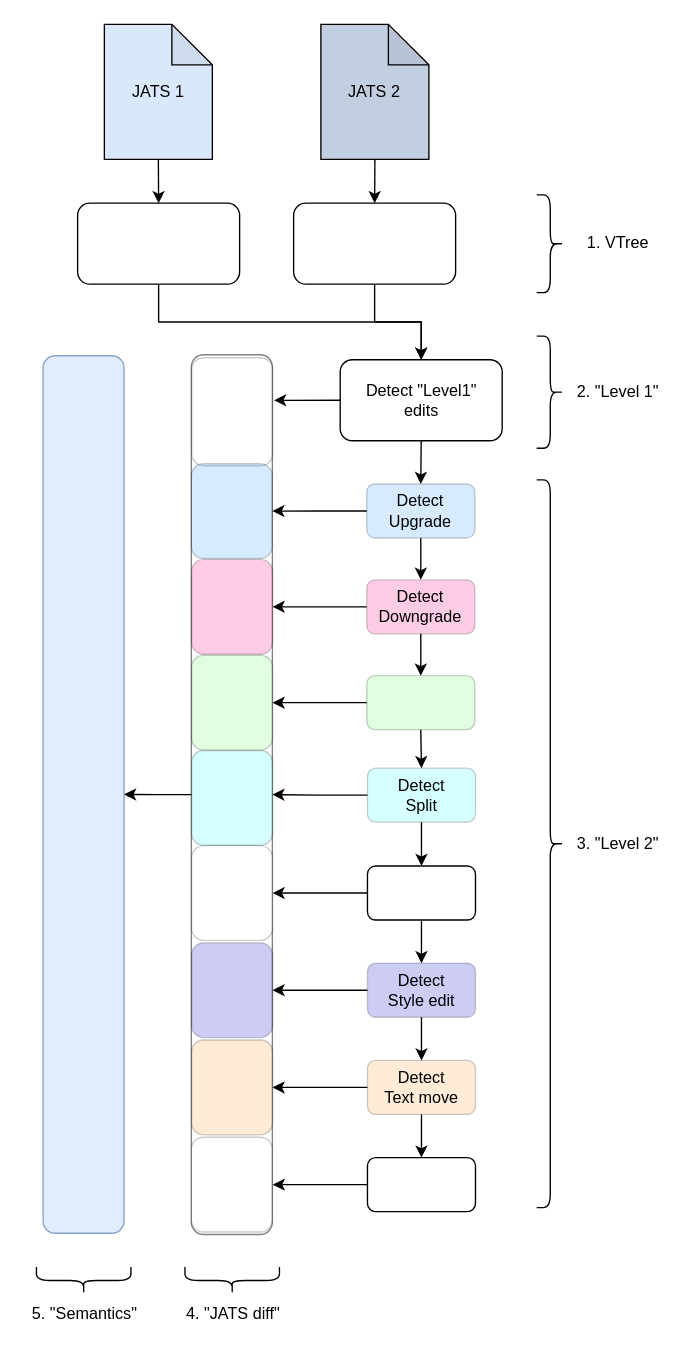
The diagram is 695 pixels wide and 1350 high, and some of its shapes have lost their labels. The shapes that lost their labels are listed below. From the top down, each one's centre as x and y in pixels, then its label:
(x=158, y=243): Build VTree 1
(x=374, y=243): Build VTree 2
(x=420, y=702): Detect Merge
(x=420, y=892): Detect Tree move
(x=420, y=1184): Detect Text update
